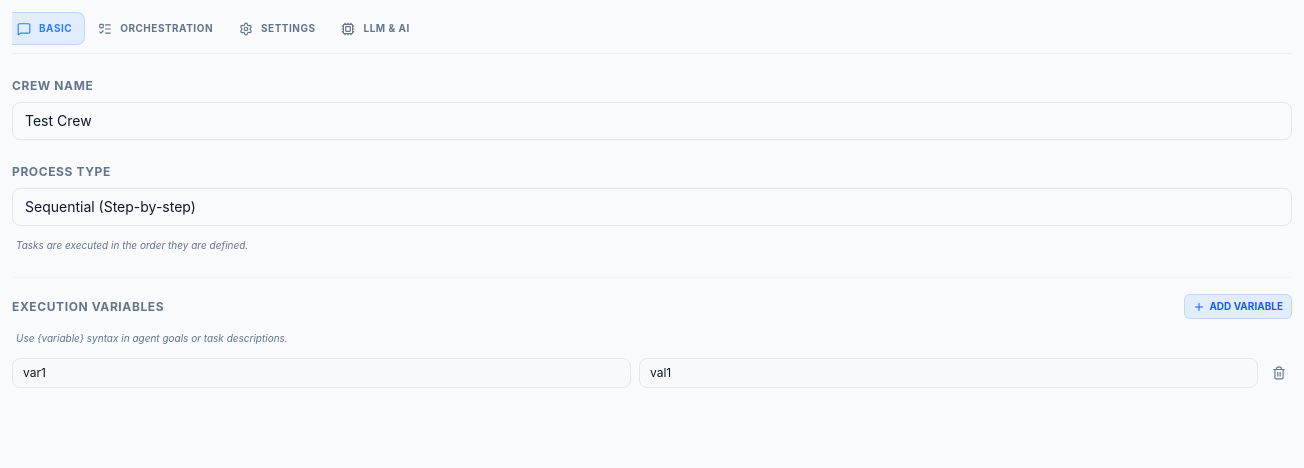
Test: CrewForm › renders and switches between all tabs
Click the button with test id "tab-orch": (156, 28) top-left (85, 12), bottom-right (226, 45)
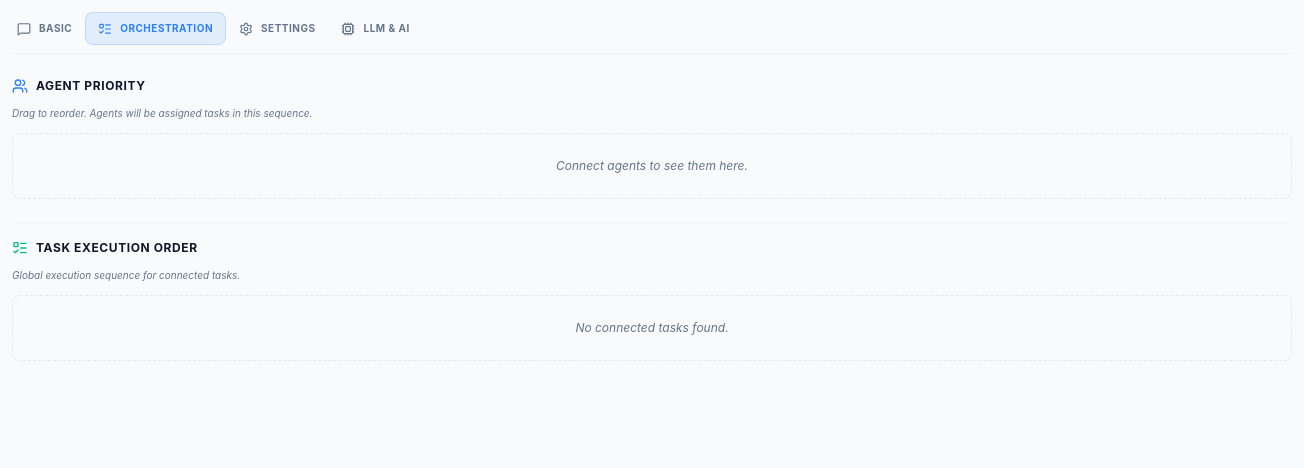
Result: the heading "Agent Priority" is shown at top-left (36, 78), bottom-right (146, 94)
Click the button with test id "tab-settings": (277, 28) top-left (226, 12), bottom-right (328, 45)
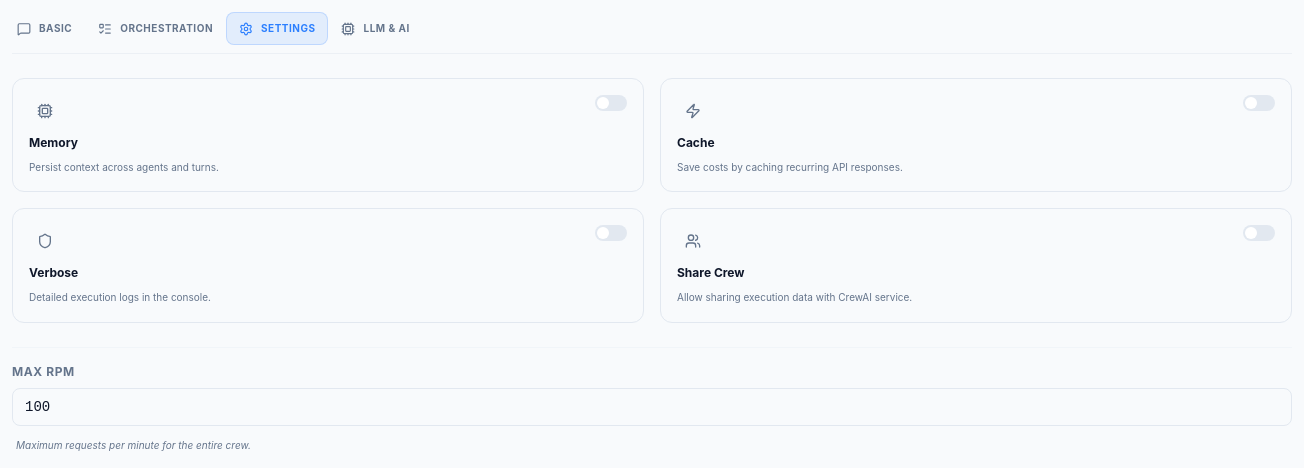
Result: the text "Memory" is shown at top-left (29, 135), bottom-right (78, 150)
